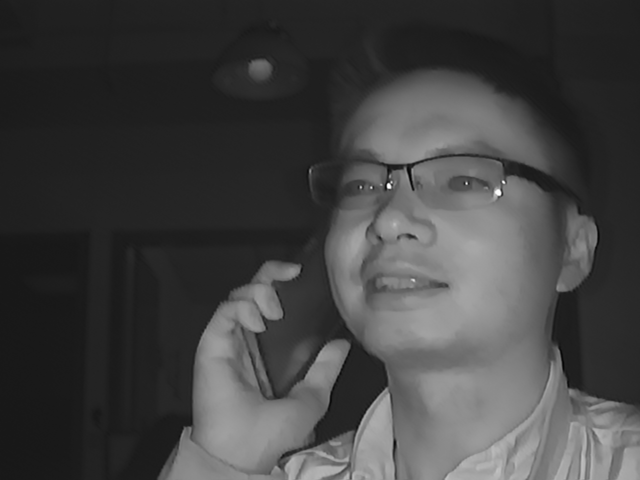hand: (194, 260, 345, 472)
